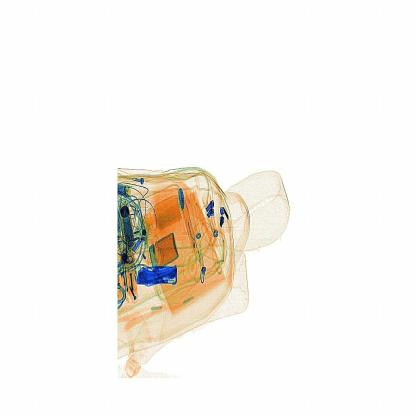knife: (135, 266, 191, 292)
